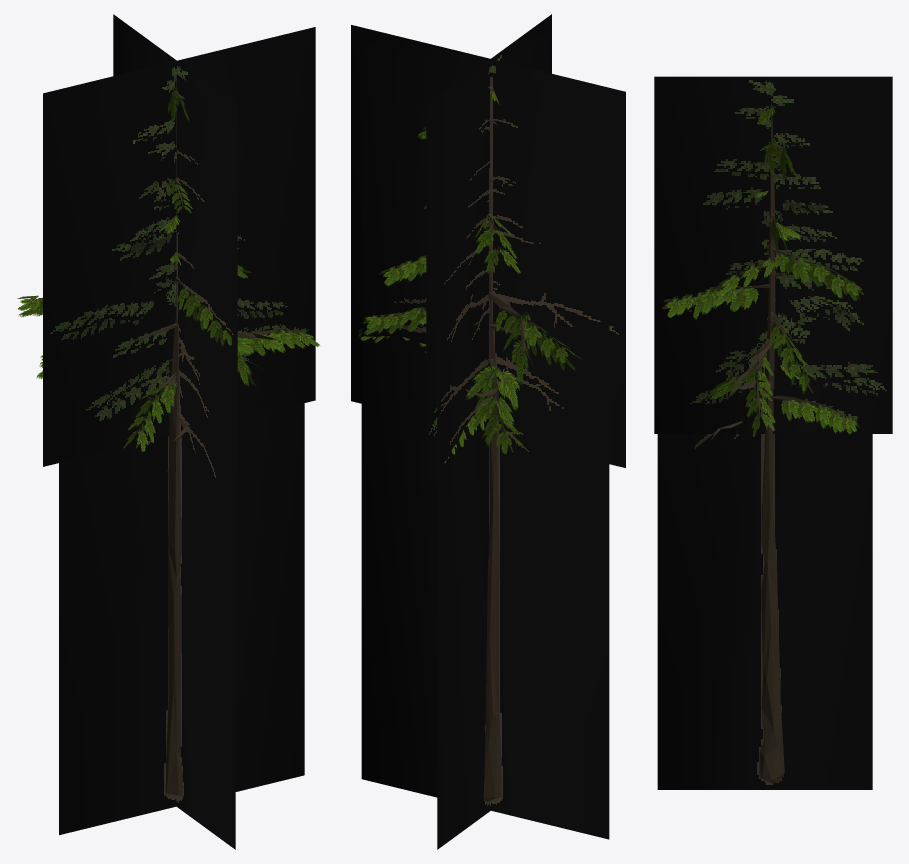
Rendered from bg-pine.glb.
3 views of the same model, side by side, from view 1: azimuth 30°, elevation 25°; view 2: azimuth 150°, elevation 25°; view 3: azimuth 270°, elevation 25° (orthographic). The views are drawn at different scales.
Visible parts, largest first — view 1: SM_Env_Pine_01_LOD2_L3, SM_Env_Pine_01_LOD0; view 2: SM_Env_Pine_01_LOD2_L3, SM_Env_Pine_01_LOD0; view 3: SM_Env_Pine_01_LOD2_L3, SM_Env_Pine_01_LOD0.
Part boxes in pixels (x1,y1,x2,y2): SM_Env_Pine_01_LOD2_L3: (43,14,315,849); SM_Env_Pine_01_LOD0: (17,87,319,795); SM_Env_Pine_01_LOD2_L3: (351,14,625,849); SM_Env_Pine_01_LOD0: (360,86,581,801); SM_Env_Pine_01_LOD2_L3: (654,76,892,789); SM_Env_Pine_01_LOD0: (663,97,864,783).
Size of what is drawn, in the model's own units: 8.5 by 22.21 by 6.78.
3 materials, 3 textured.
